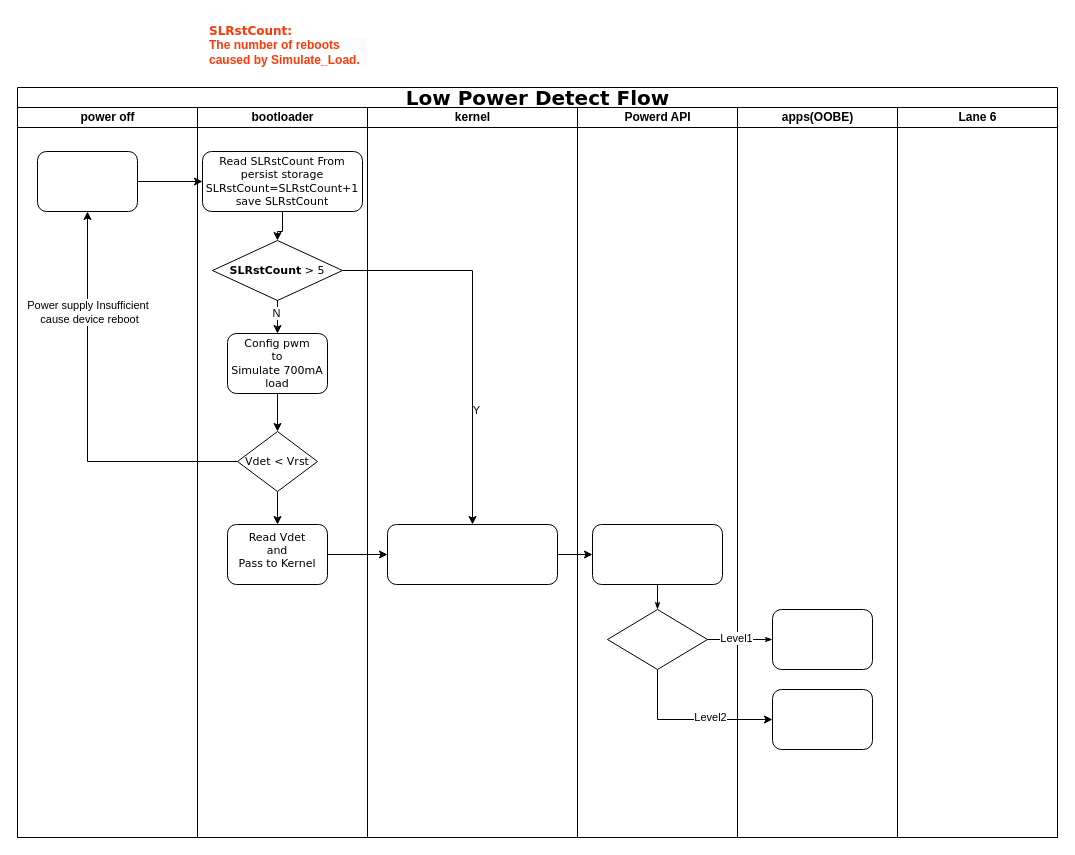
This 1075x855 diagram has some shape labels left out. The centre of each missing label's shape, as x and y in pixels:
"Create sysfs node /sys/amazon/usb_voltage SLRstCount=0 save SLRstCount" belongs at (472,554).
"Notification Leve1" belongs at (822,639).
"Notification Leve2" belongs at (822,719).
"power_on" belongs at (87,181).
"Powerd API read usb_voltage determine the power supply level" belongs at (657,554).
"PowerSupply Level" belongs at (657,639).
